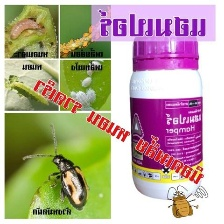insecticide: (125, 27, 209, 203)
